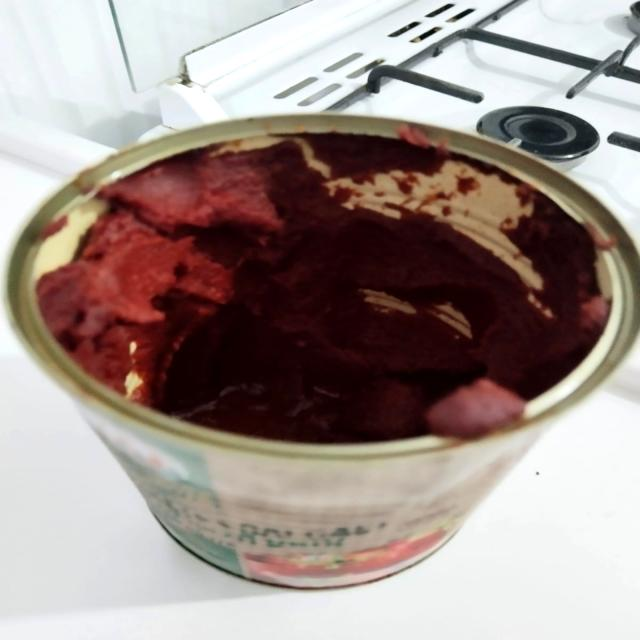tomato paste: (38, 155, 640, 460)
